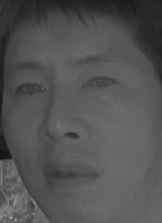eye: (80, 70, 119, 101), (12, 78, 47, 104)
mouth: (40, 157, 101, 192)
